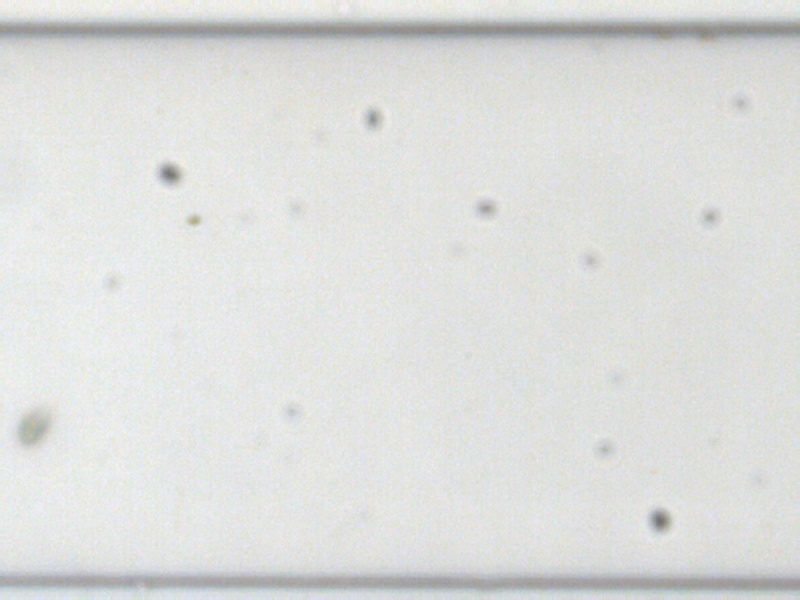Chlorella: (185, 209, 201, 226)
Dunaliella salina: (15, 406, 53, 445)
